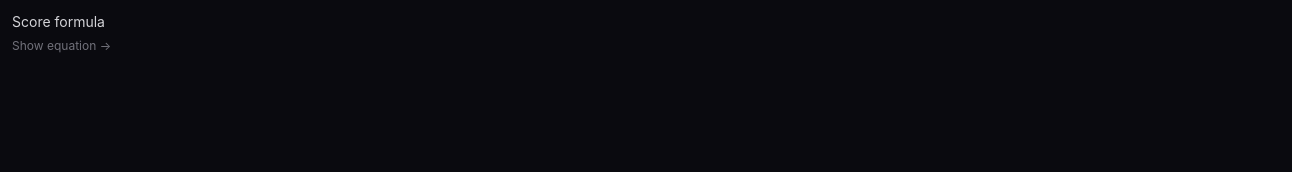
Test case: MathNote › reveals equation on tap
This screenshot has width=1292, height=172.
Click the button "Show equation →" at (62, 46), box x1=12 y1=38 x2=111 y2=54
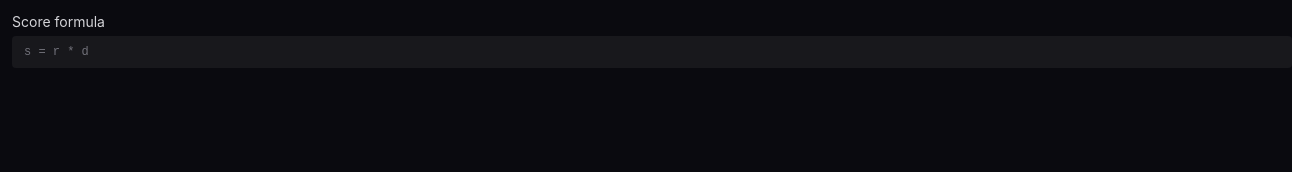
Expected: the text "s = r * d" is shown, x1=12 y1=36 x2=1291 y2=68
